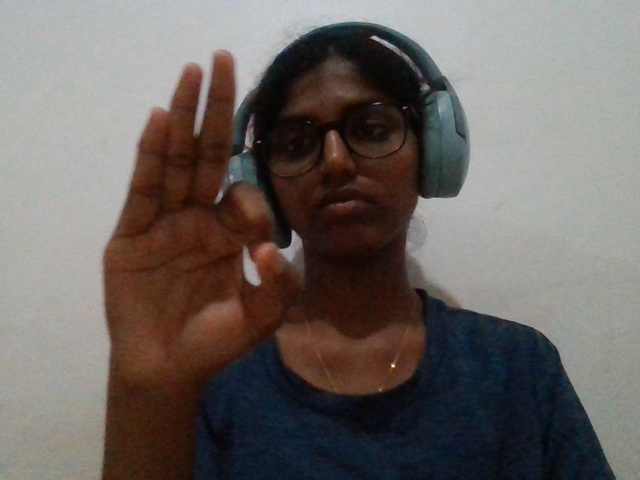F: (86, 40, 315, 434)
